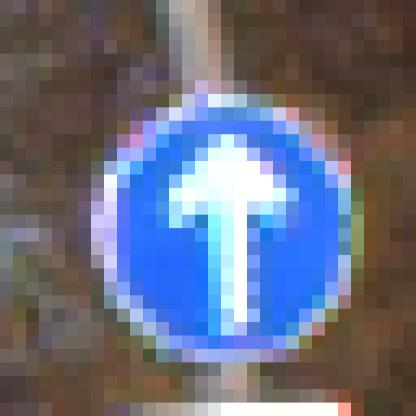AheadOnly: (79, 81, 352, 350)
